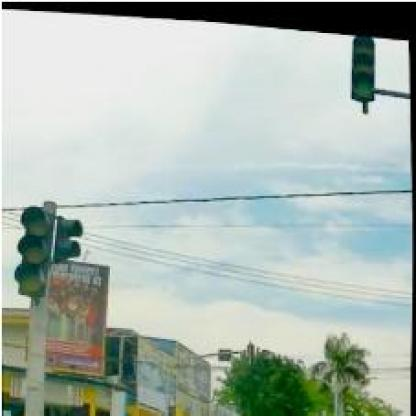green: (11, 201, 55, 297), (348, 27, 378, 95)
